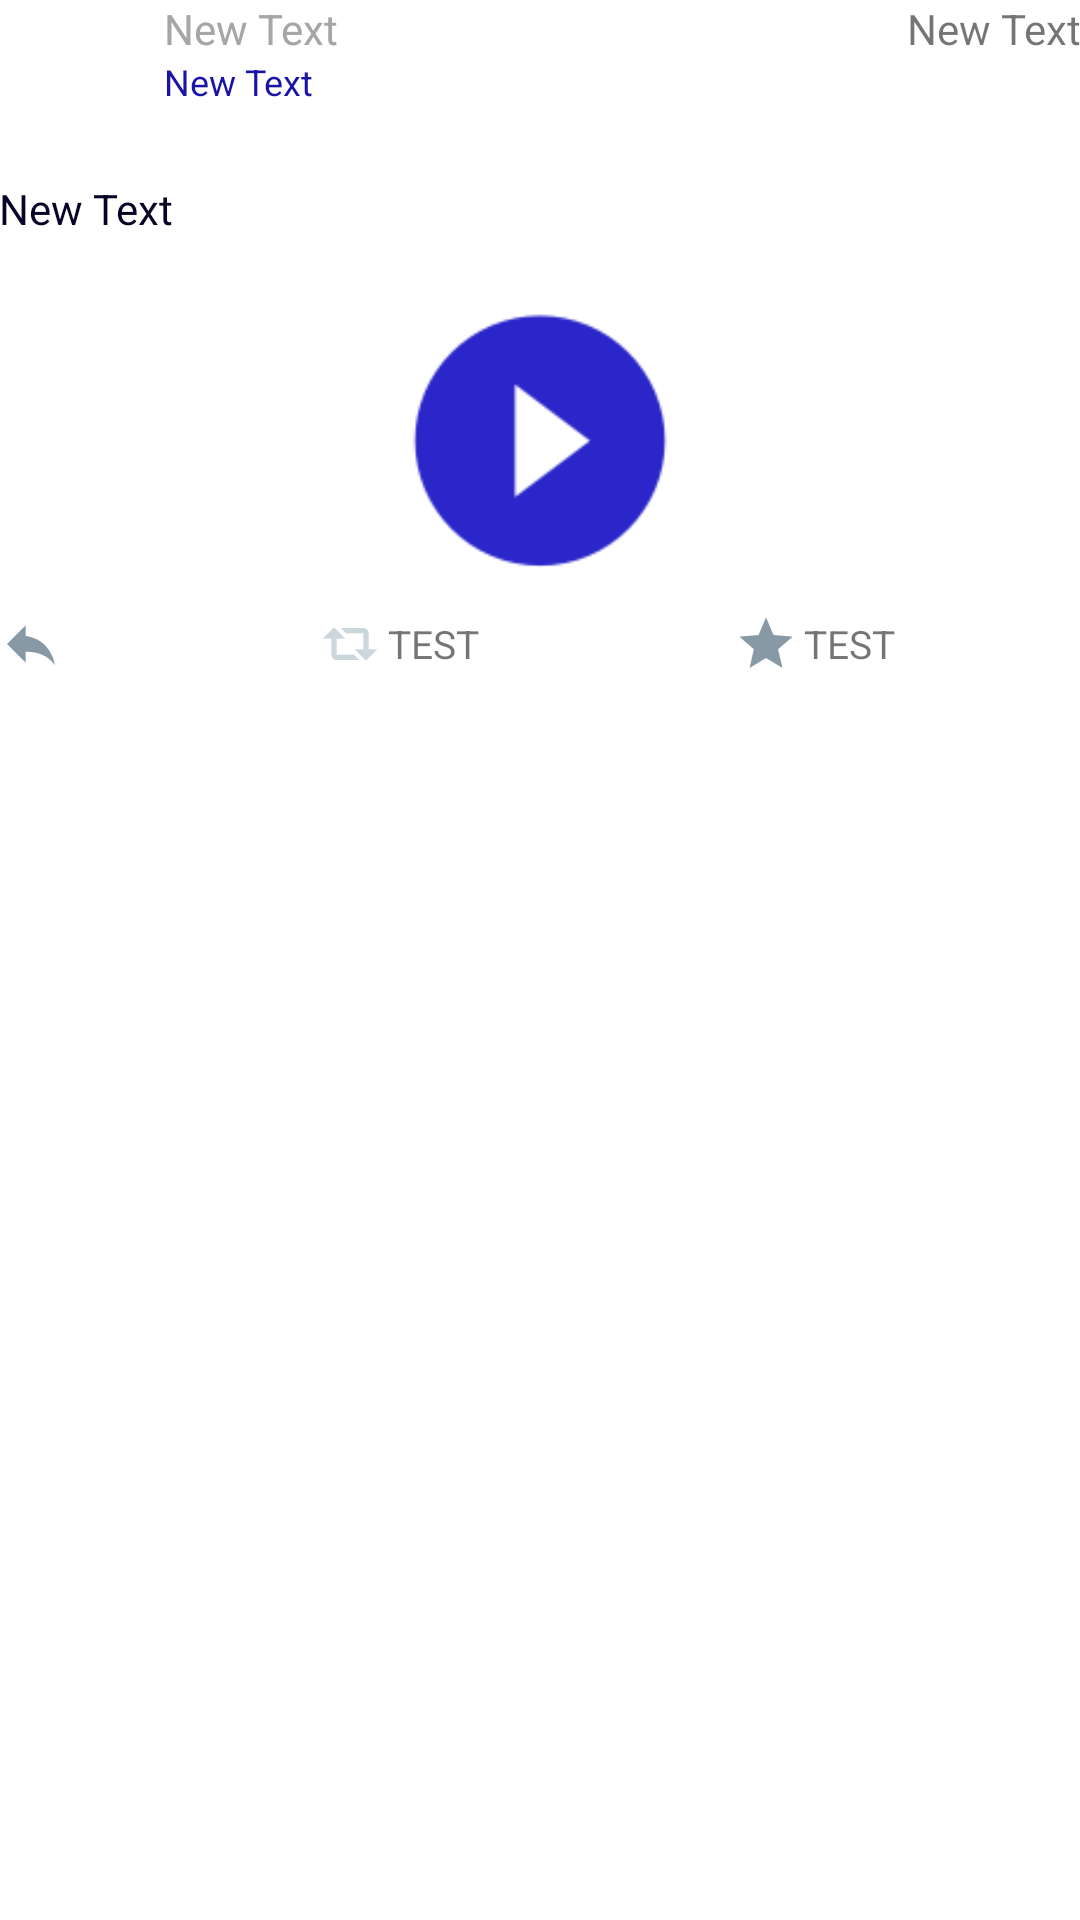

Where to tap for icons on this 1080 × 1920 app screen, as [x,y]:
play: [540,440]
